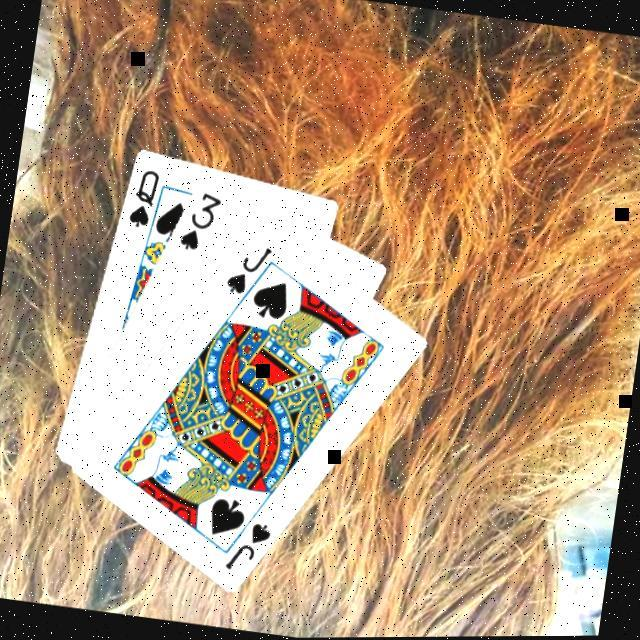3S: (176, 188, 227, 259)
JS: (222, 517, 277, 580), (223, 241, 277, 303)
QS: (125, 167, 166, 235)
